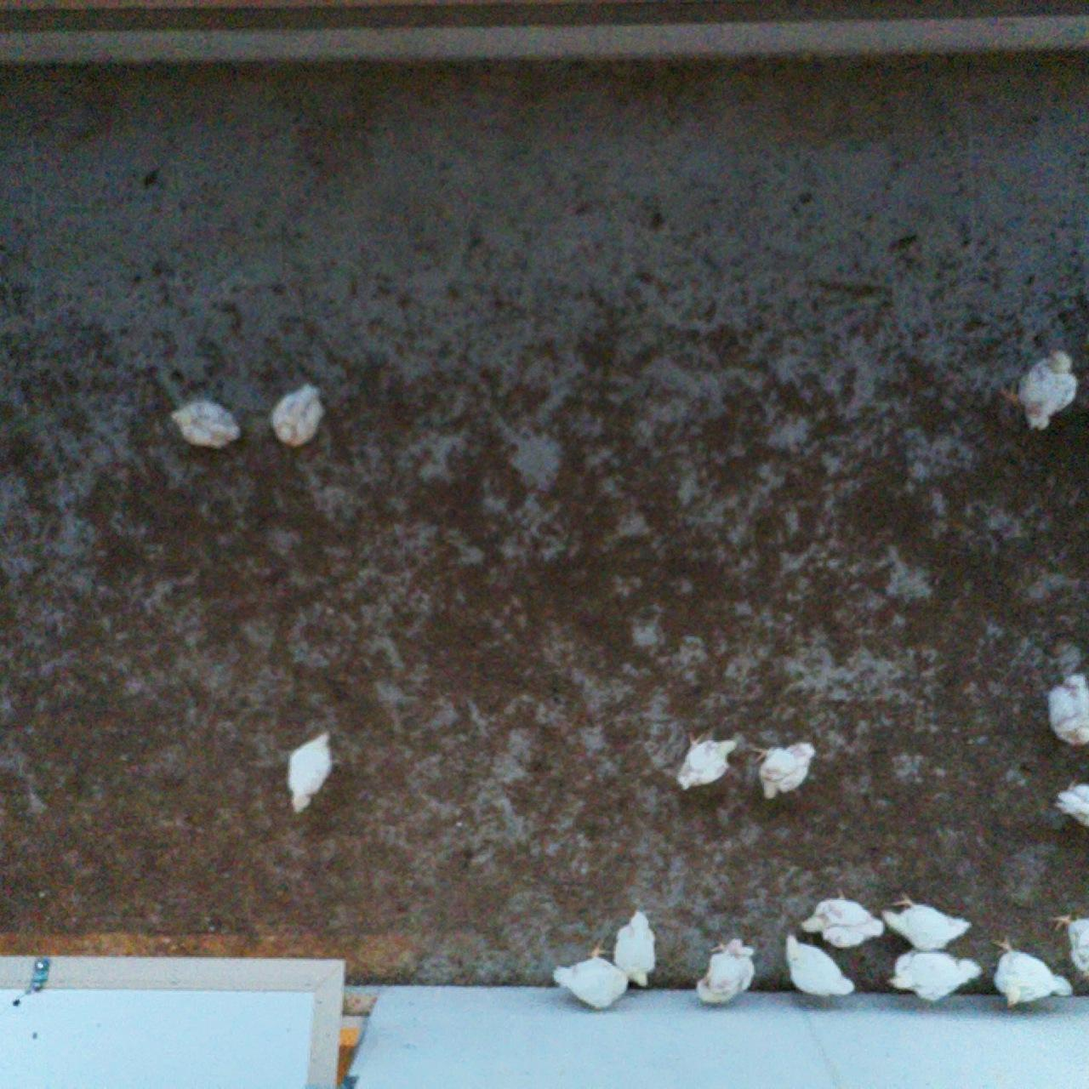chicken: (993, 341, 1081, 435), (989, 932, 1078, 1013), (550, 934, 636, 1011), (880, 889, 975, 954), (885, 946, 986, 1007), (796, 884, 887, 951), (280, 724, 343, 820), (780, 929, 856, 1001), (689, 935, 759, 1013), (746, 736, 818, 805), (268, 379, 331, 456), (167, 395, 247, 453), (673, 729, 740, 796), (612, 906, 659, 988), (1041, 908, 1089, 985), (1044, 670, 1089, 749), (1048, 774, 1089, 831)
